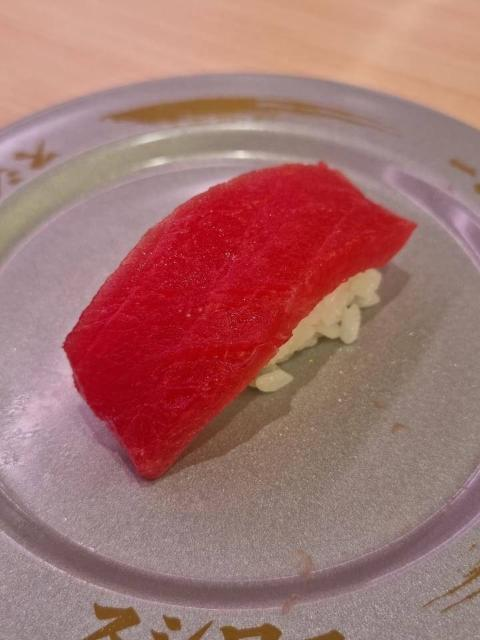janwhite: (4, 94, 480, 640)
